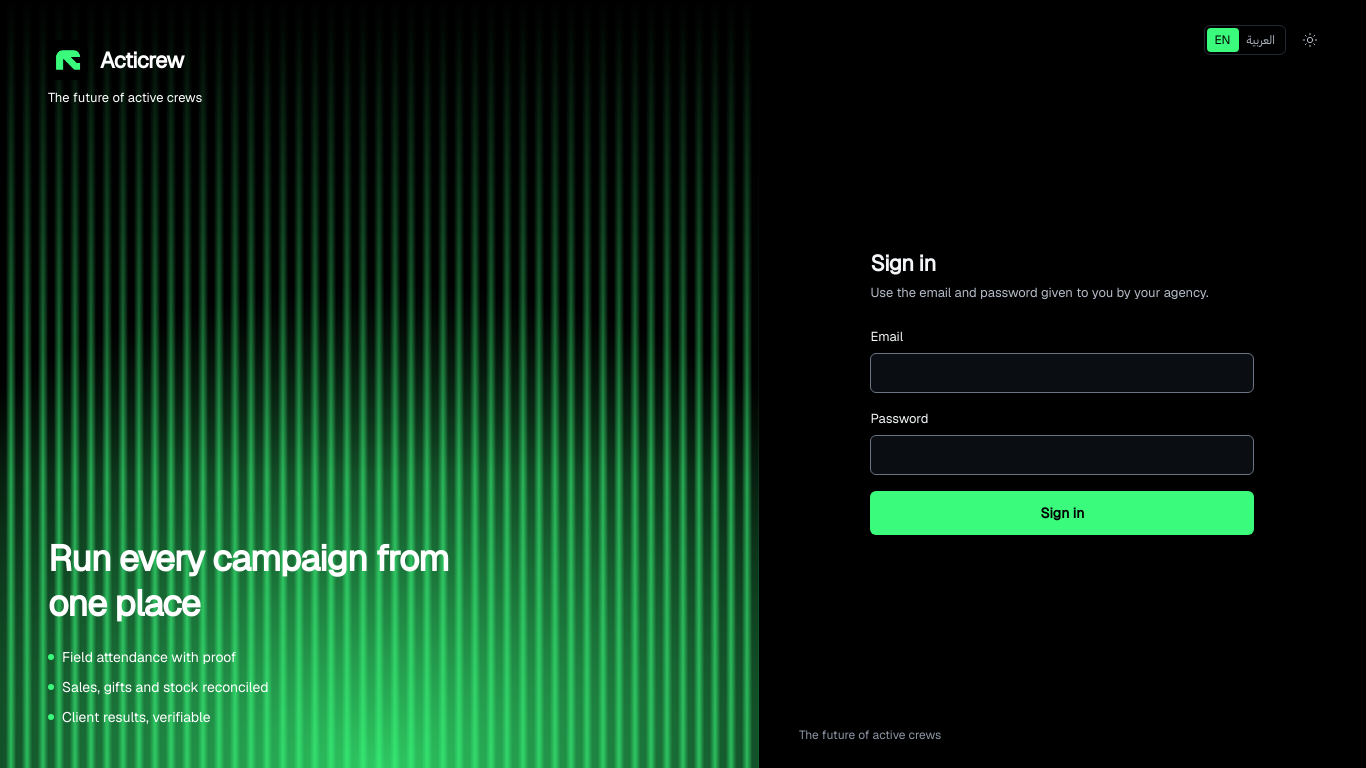
Test: login page › shows RATE_LIMITED as a global error
This screenshot has width=1366, height=768.
Expected: the heading "Sign in" is shown, [870,248,936,276]
In the field labelled "Email": x=1062, y=372 [870,352,1254,392], type "amina@agency.dz"
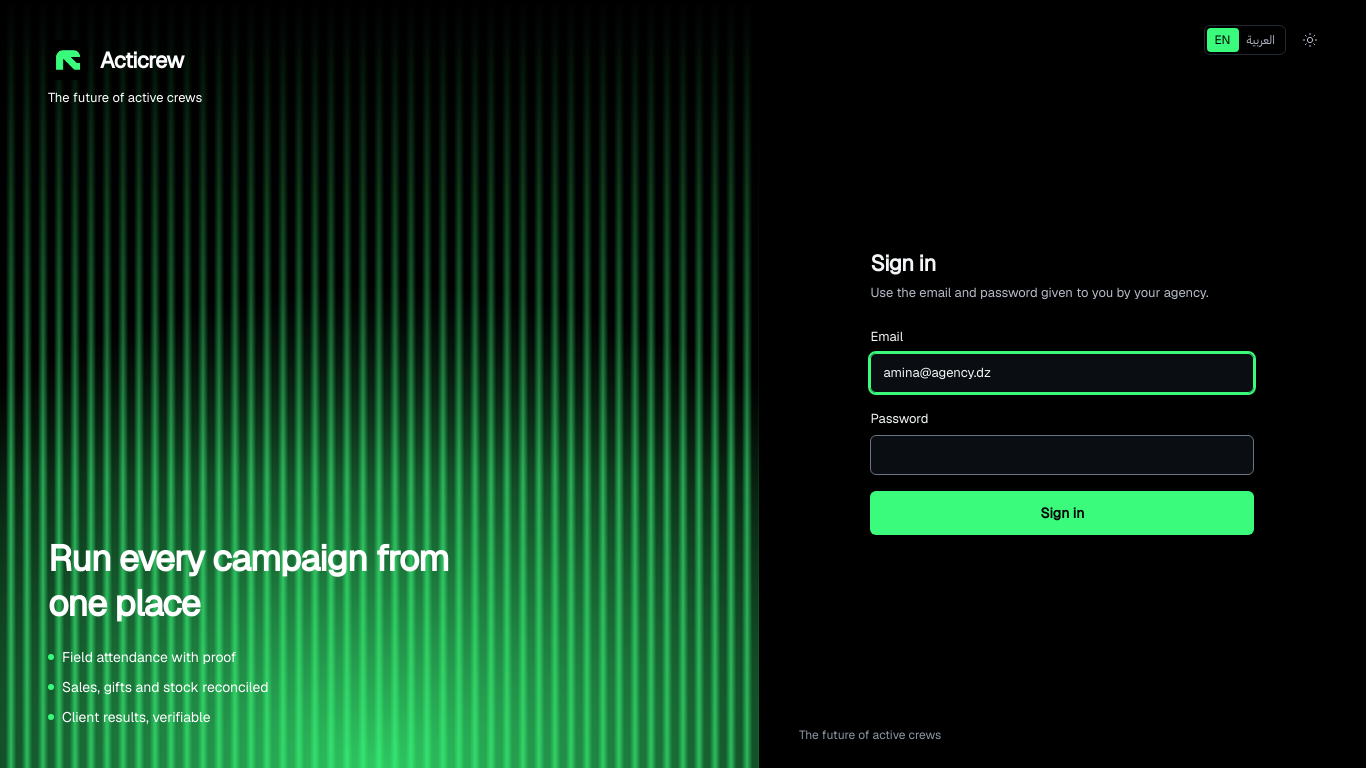
In the password field labelled "Password": x=1062, y=454 [870,434,1254,474], type "secret-pass-1"
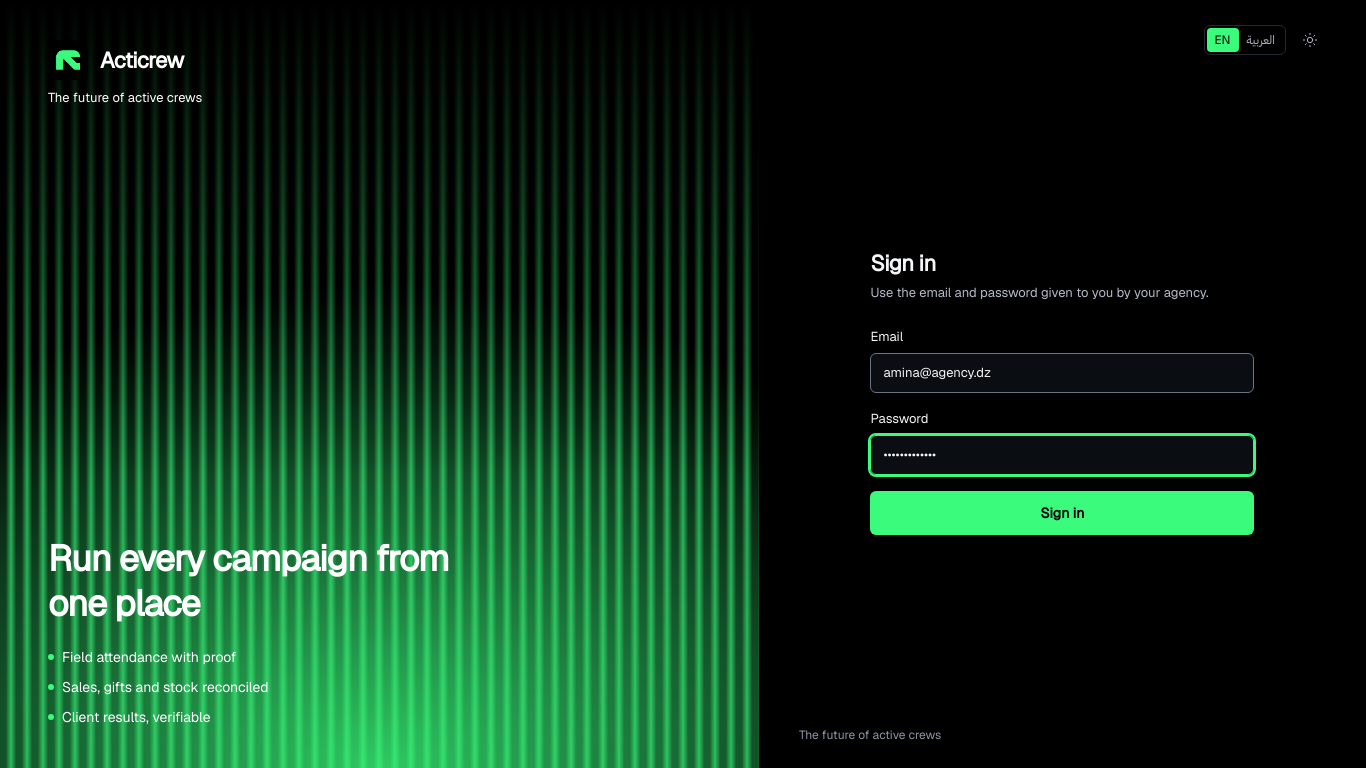
Click the button "Sign in": x=1062, y=512 [870,490,1254,534]
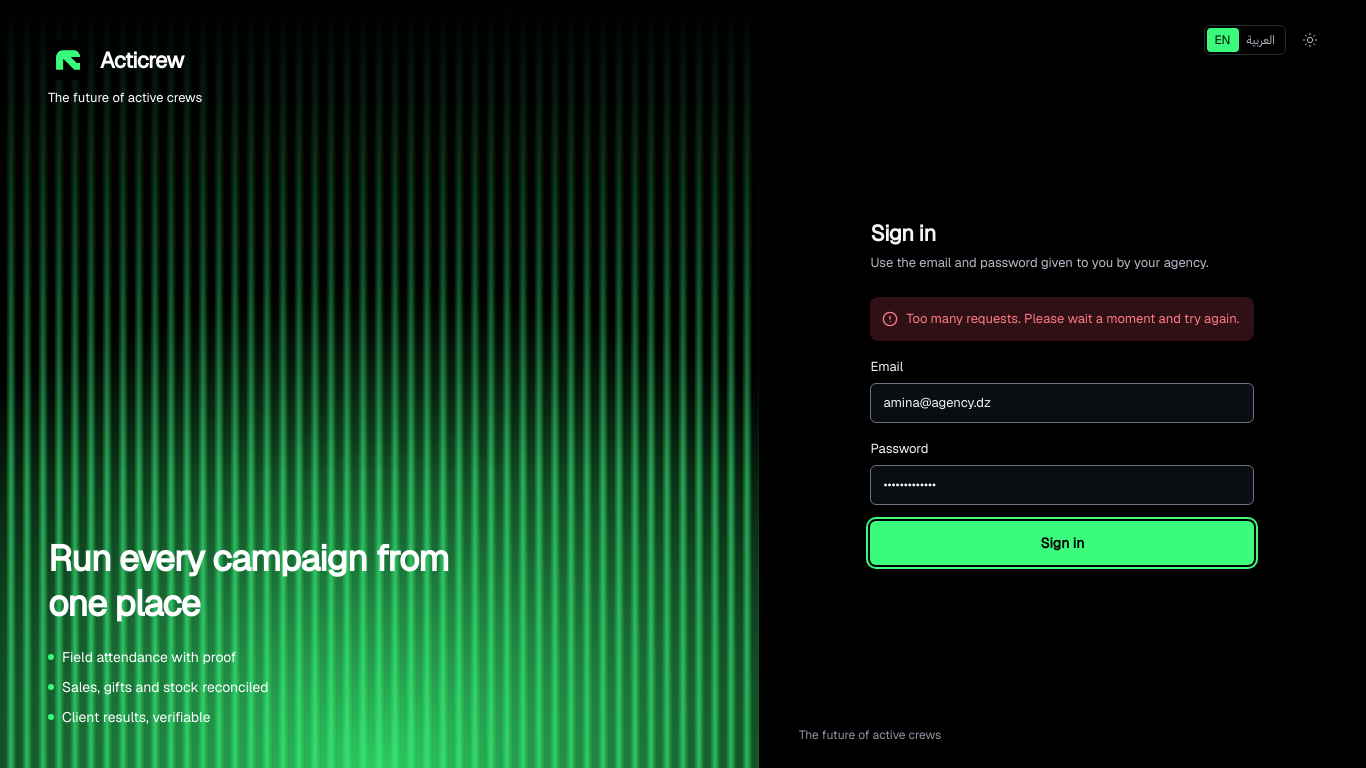
Now the message reads "Too many requests. Please wait a moment and try again.", box [906,310,1239,326]
